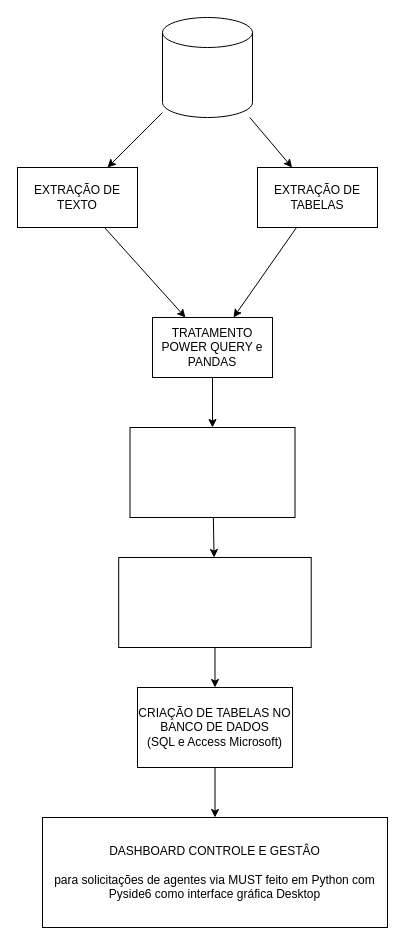
Some shapes in this 405 by 945 pixel diagram are drawn without their labels. The shapes that lost their labels are listed below. From the top down, each one's box as (x1, y1, x2, y2) in pixels, then its label:
(162, 16, 252, 118): ARQUIVOS PDF
(129, 426, 295, 518): "MERGE" DOS DADOS COM ANOTAÇÕES DE CADA ID AGENTE
(118, 556, 311, 648): TABELA FINAL EM EXCEL COM TODOS OS RESULTADOS CONSOLIDADOS
